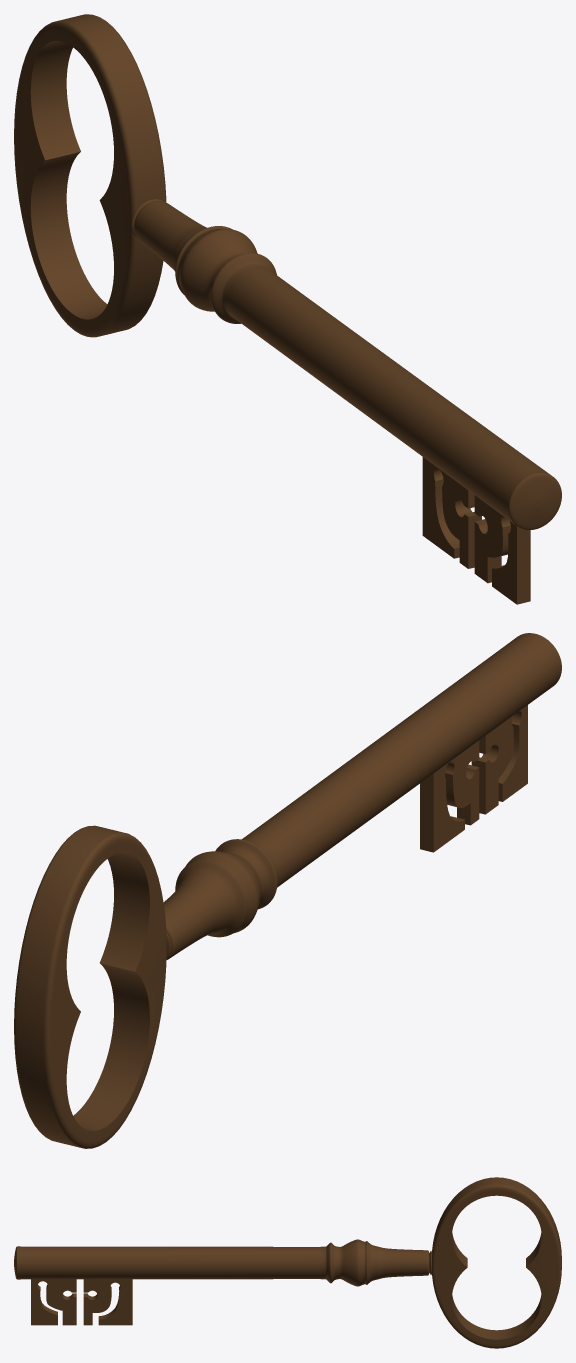
Rendered from key.glb.
The picture shows the model from 3 angles, top to bottom: view 1: azimuth 30°, elevation 25°; view 2: azimuth 150°, elevation 25°; view 3: azimuth 270°, elevation 25°; orthographic projection. The views are drawn at different scales.
Parts seen in each view (by area): view 1: Box007_Material #30_0; view 2: Box007_Material #30_0; view 3: Box007_Material #30_0.
Part boxes in pixels (box(x1,y1,x2,y2)): Box007_Material #30_0: box(14, 14, 561, 604); Box007_Material #30_0: box(14, 633, 561, 1148); Box007_Material #30_0: box(14, 1177, 561, 1348).
Size of the model in its own units: 0.0086 by 0.033 by 0.1.
